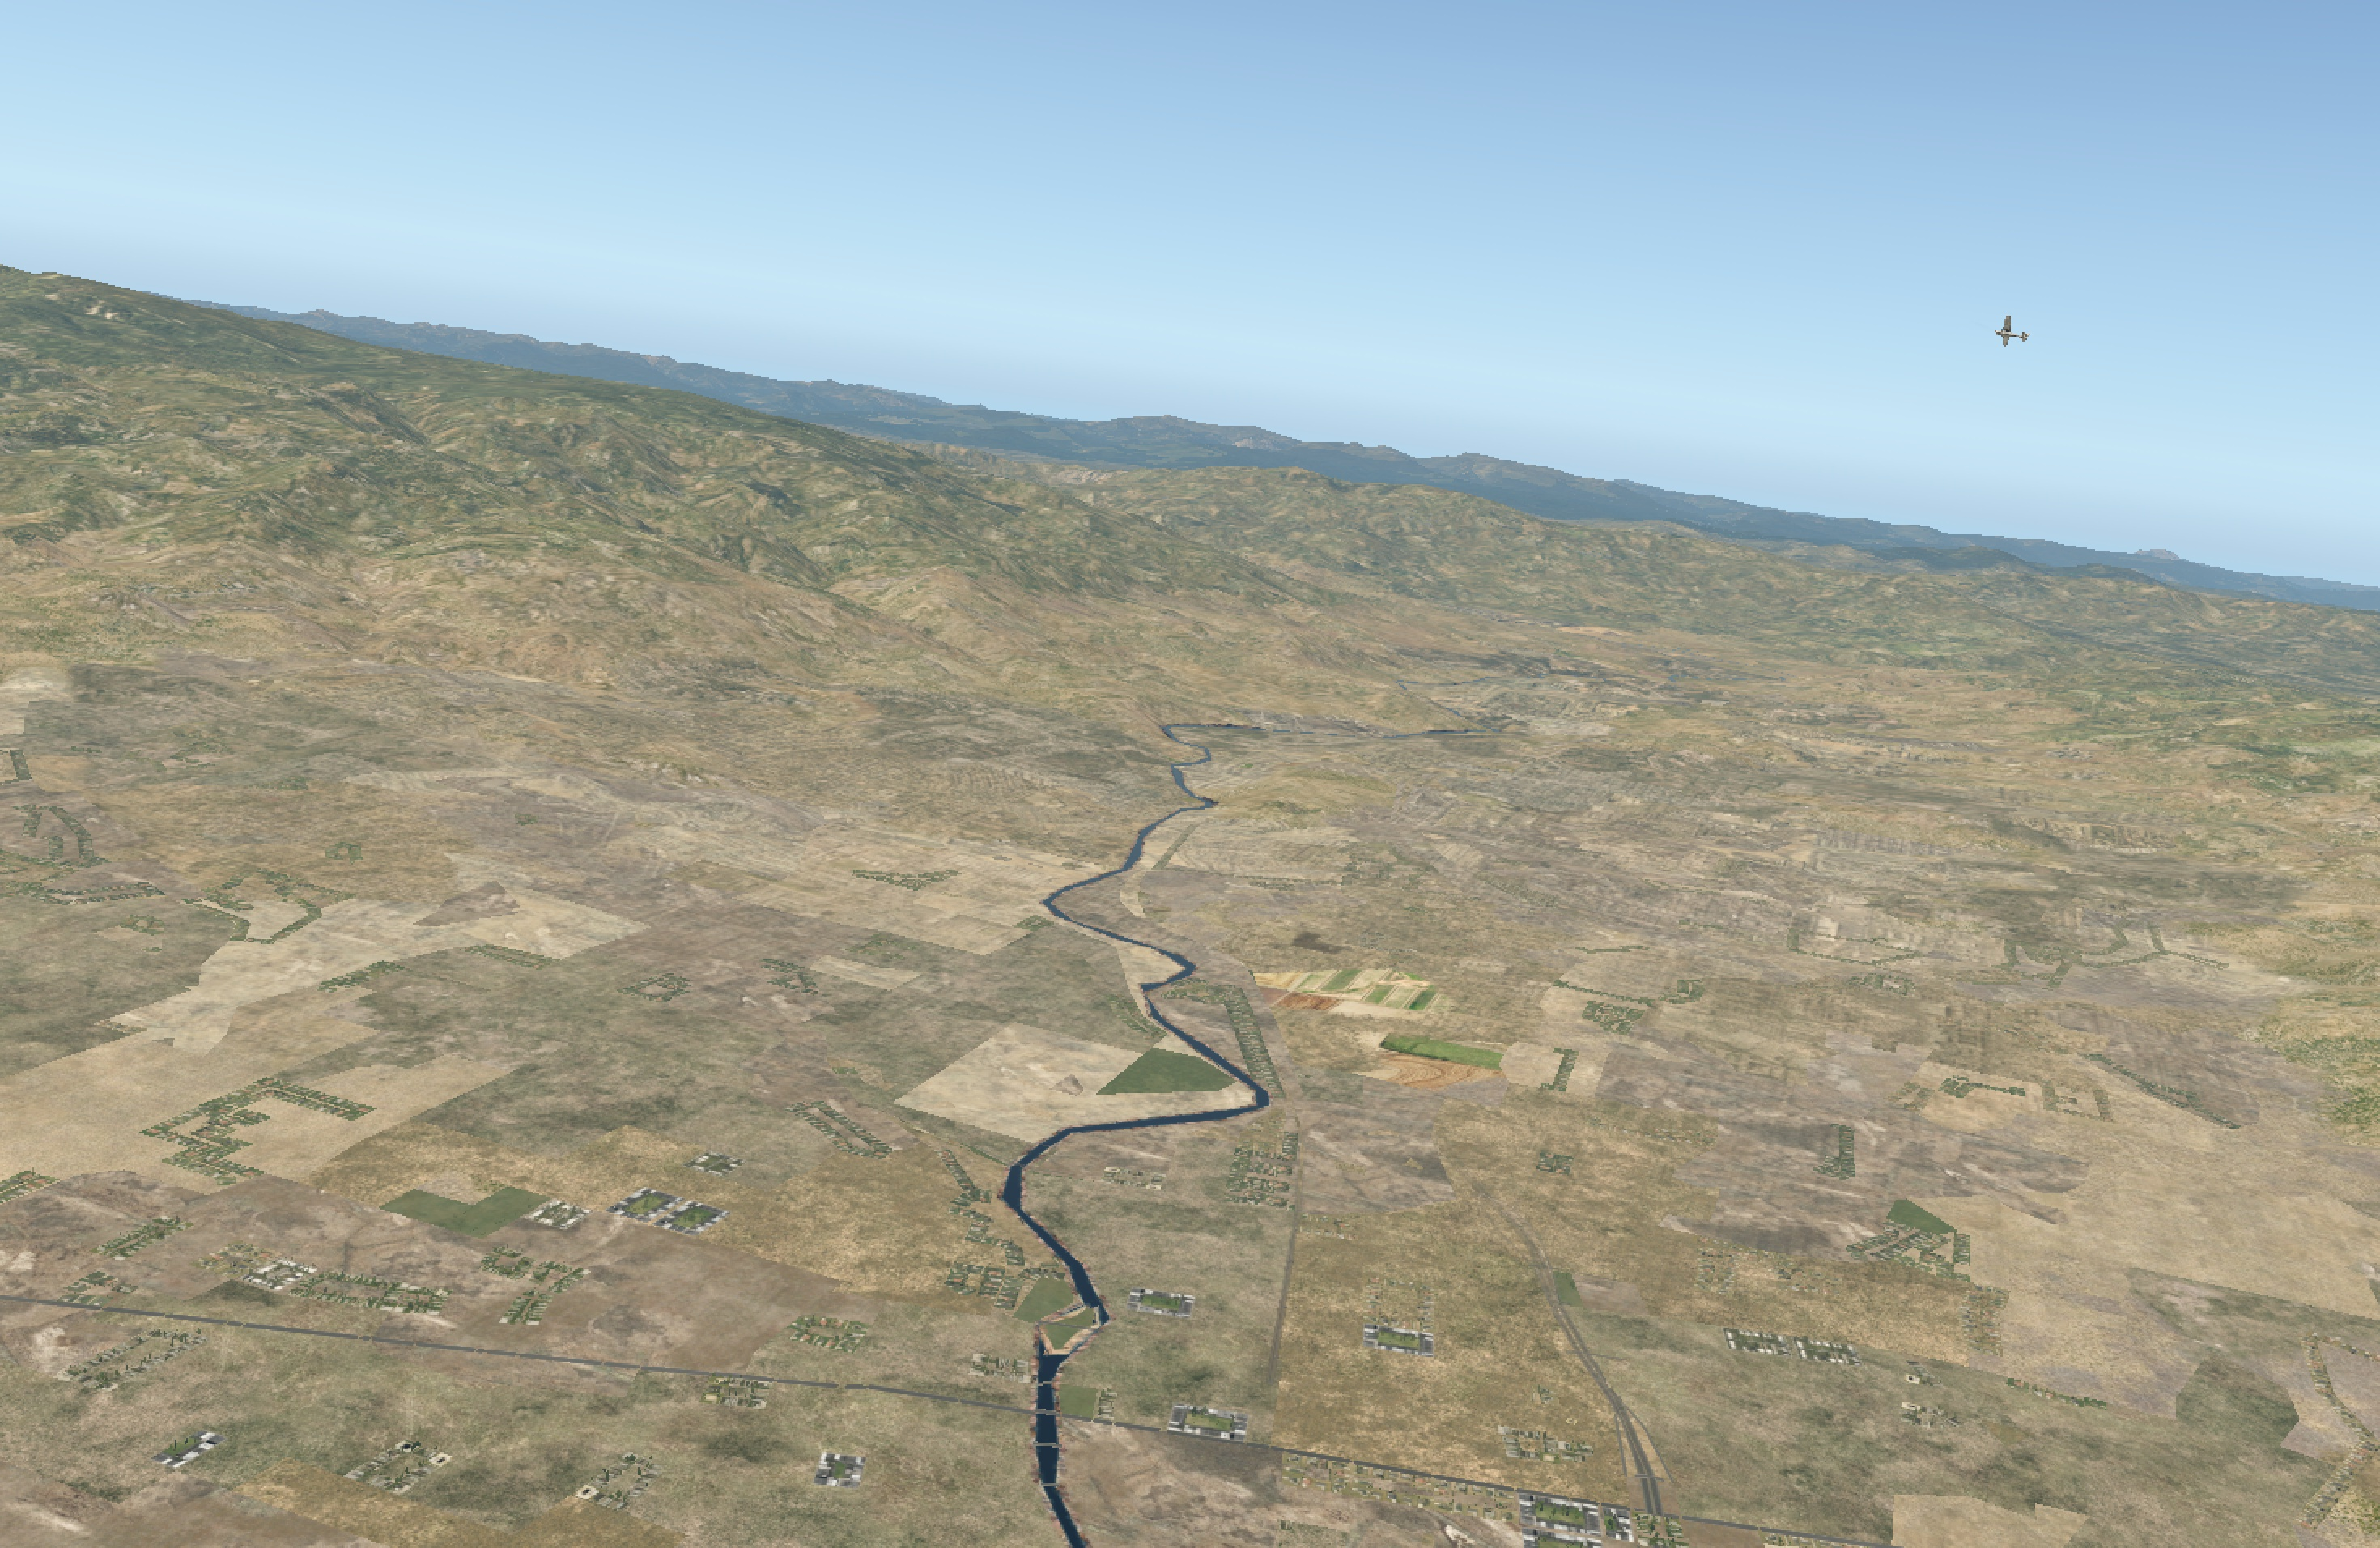aircraft: (1990, 326, 2019, 338)
